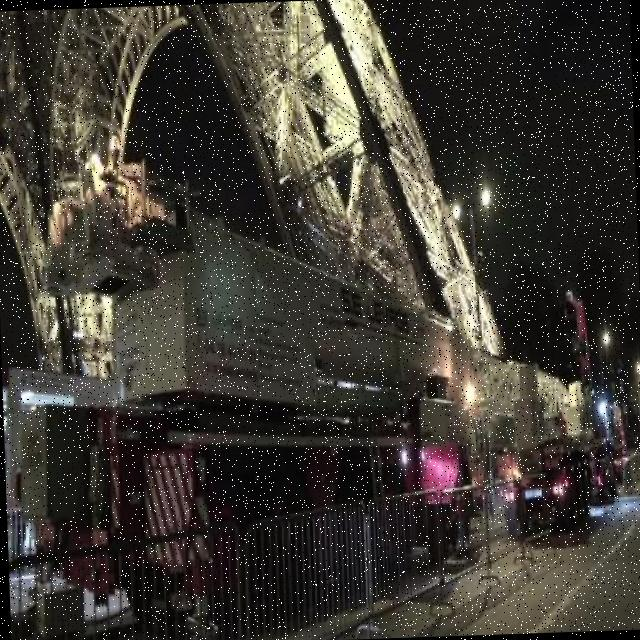Mobile Crane: (0, 133, 488, 640)
